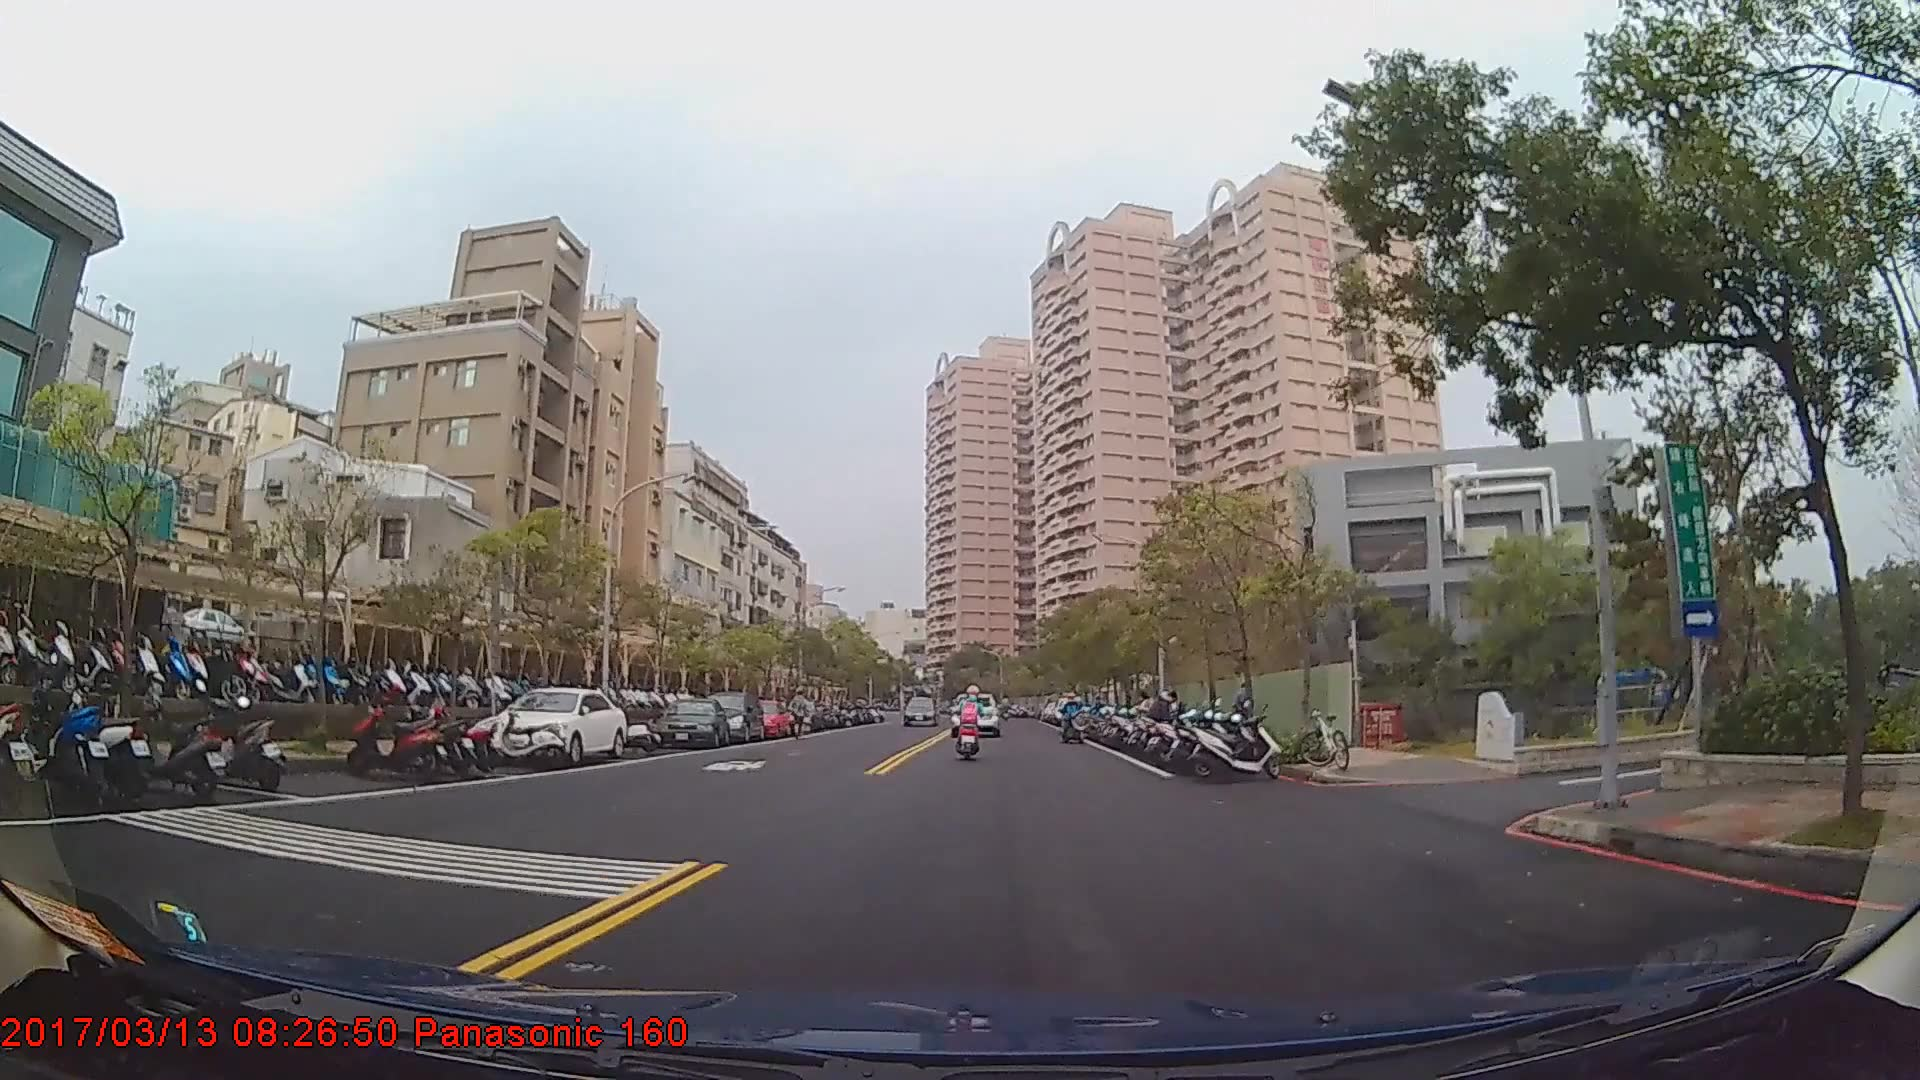pedestrian: (1141, 675, 1180, 750), (1233, 681, 1258, 734), (788, 690, 814, 742)
rider: (957, 684, 986, 755), (1060, 691, 1084, 741)
vehicle: (497, 687, 628, 764), (653, 695, 728, 747), (700, 689, 764, 741), (949, 688, 1000, 733), (743, 697, 792, 740), (904, 694, 935, 723)
